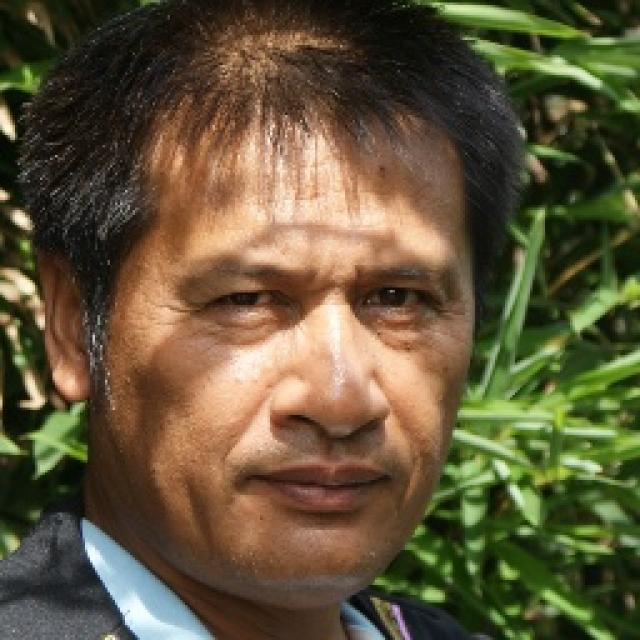earlobe: (50, 362, 90, 402)
eye: (207, 282, 286, 319), (359, 285, 435, 319)
nose: (270, 414, 390, 460)
wholeear: (36, 244, 93, 400)
